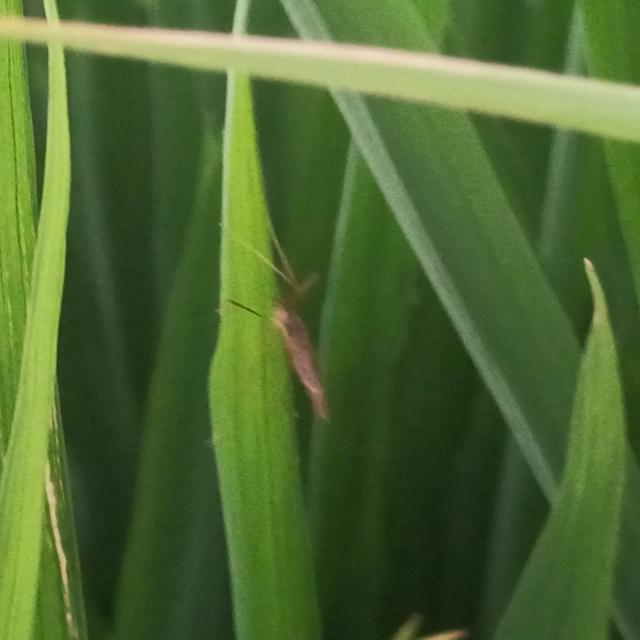Narrow brown: (212, 181, 352, 443)
